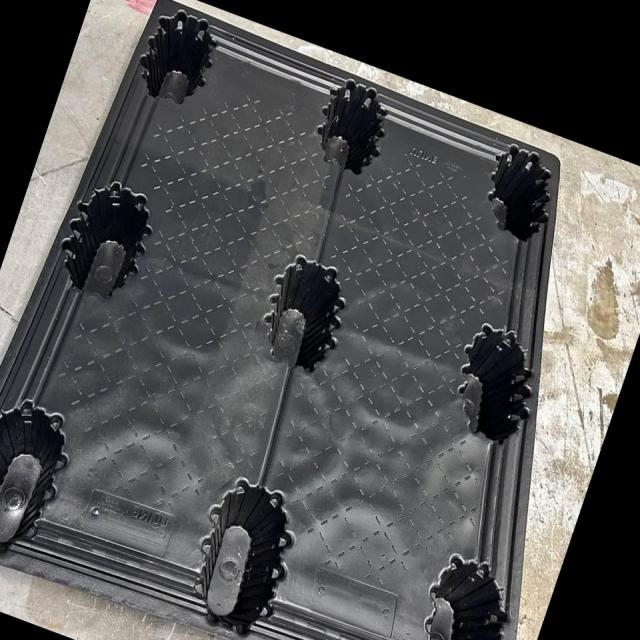non-igps: (0, 0, 571, 640)
